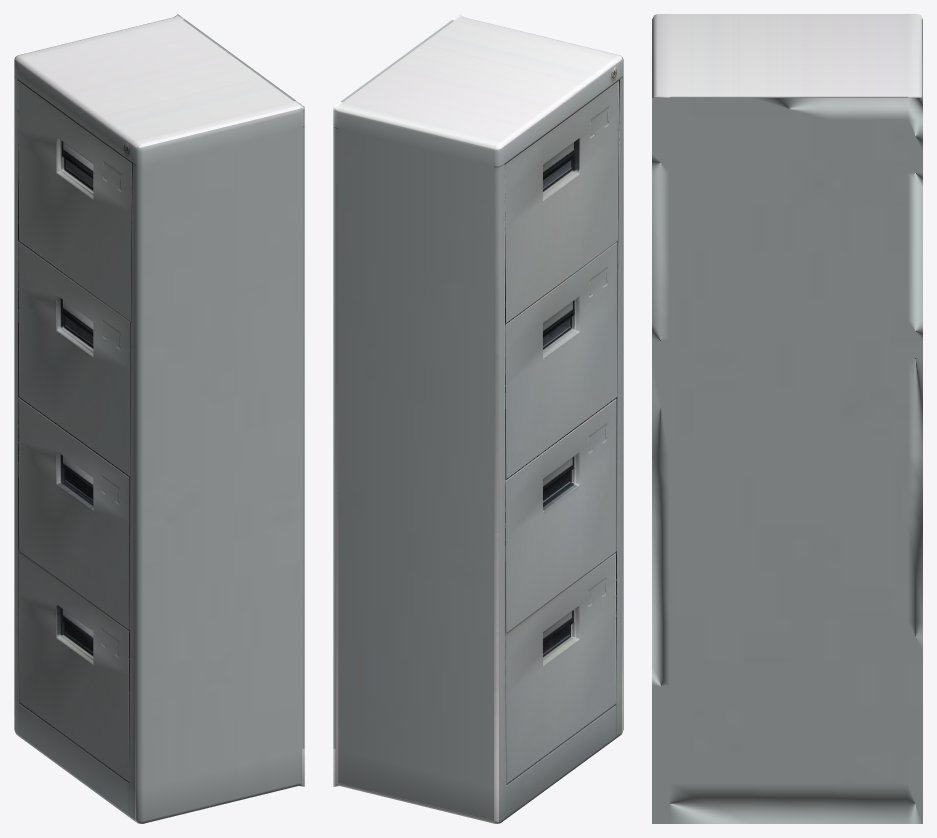
Rendered from file_cabinet_01.fbx.
3 renders of one model, left to right at view 1: azimuth 30°, elevation 25°; view 2: azimuth 150°, elevation 25°; view 3: azimuth 270°, elevation 25°, orthographic. The views are drawn at different scales.
Parts seen in each view (by area): view 1: file_cabinet_02; view 2: file_cabinet_02; view 3: file_cabinet_02.
Boxes of the visible parts, left/top/right/bottom form: file_cabinet_02: left=14, top=14, right=304, bottom=823; file_cabinet_02: left=333, top=14, right=623, bottom=823; file_cabinet_02: left=652, top=14, right=922, bottom=823.
Bounding box in the file's own units: 22.43 × 87.92 × 29.74.
Materials: 1 (1 with a texture image).
